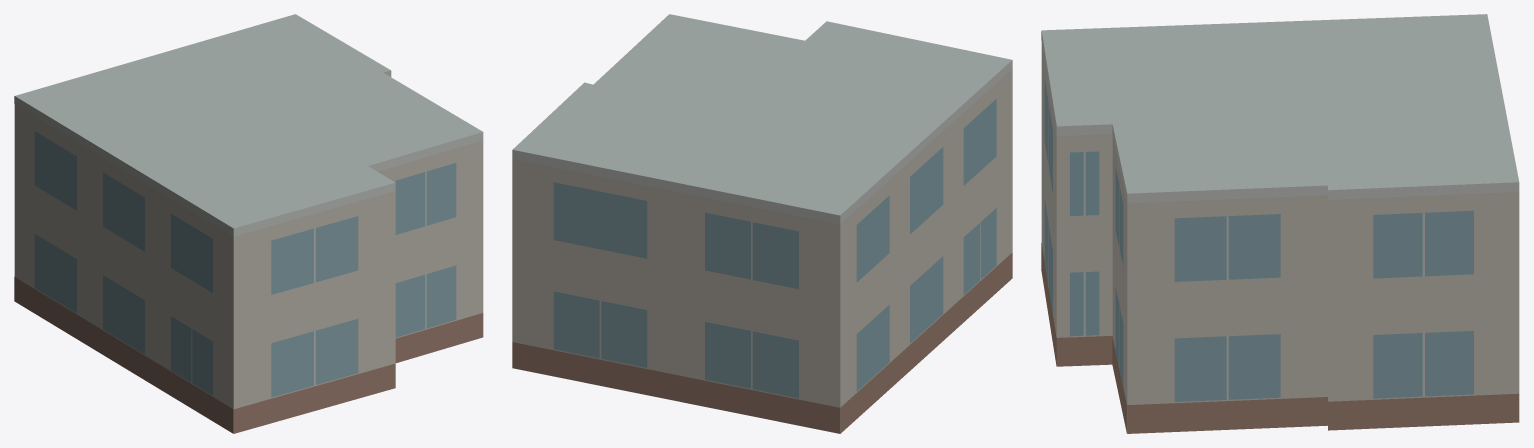
The model's file is survey-upis-33034059.glb.
3 views of the same model, side by side, from view 1: azimuth 30°, elevation 25°; view 2: azimuth 150°, elevation 25°; view 3: azimuth 270°, elevation 25° (orthographic). The views are drawn at different scales.
Visible parts, largest first — view 1: survey-upis-33034059.tmp; view 2: survey-upis-33034059.tmp; view 3: survey-upis-33034059.tmp.
Part boxes in pixels (x1,y1,x2,y2): survey-upis-33034059.tmp: (14,14,483,433); survey-upis-33034059.tmp: (512,14,1012,433); survey-upis-33034059.tmp: (1041,14,1519,433).
Bounding box in the file's own units: 9.79 × 6.1 × 11.01.
